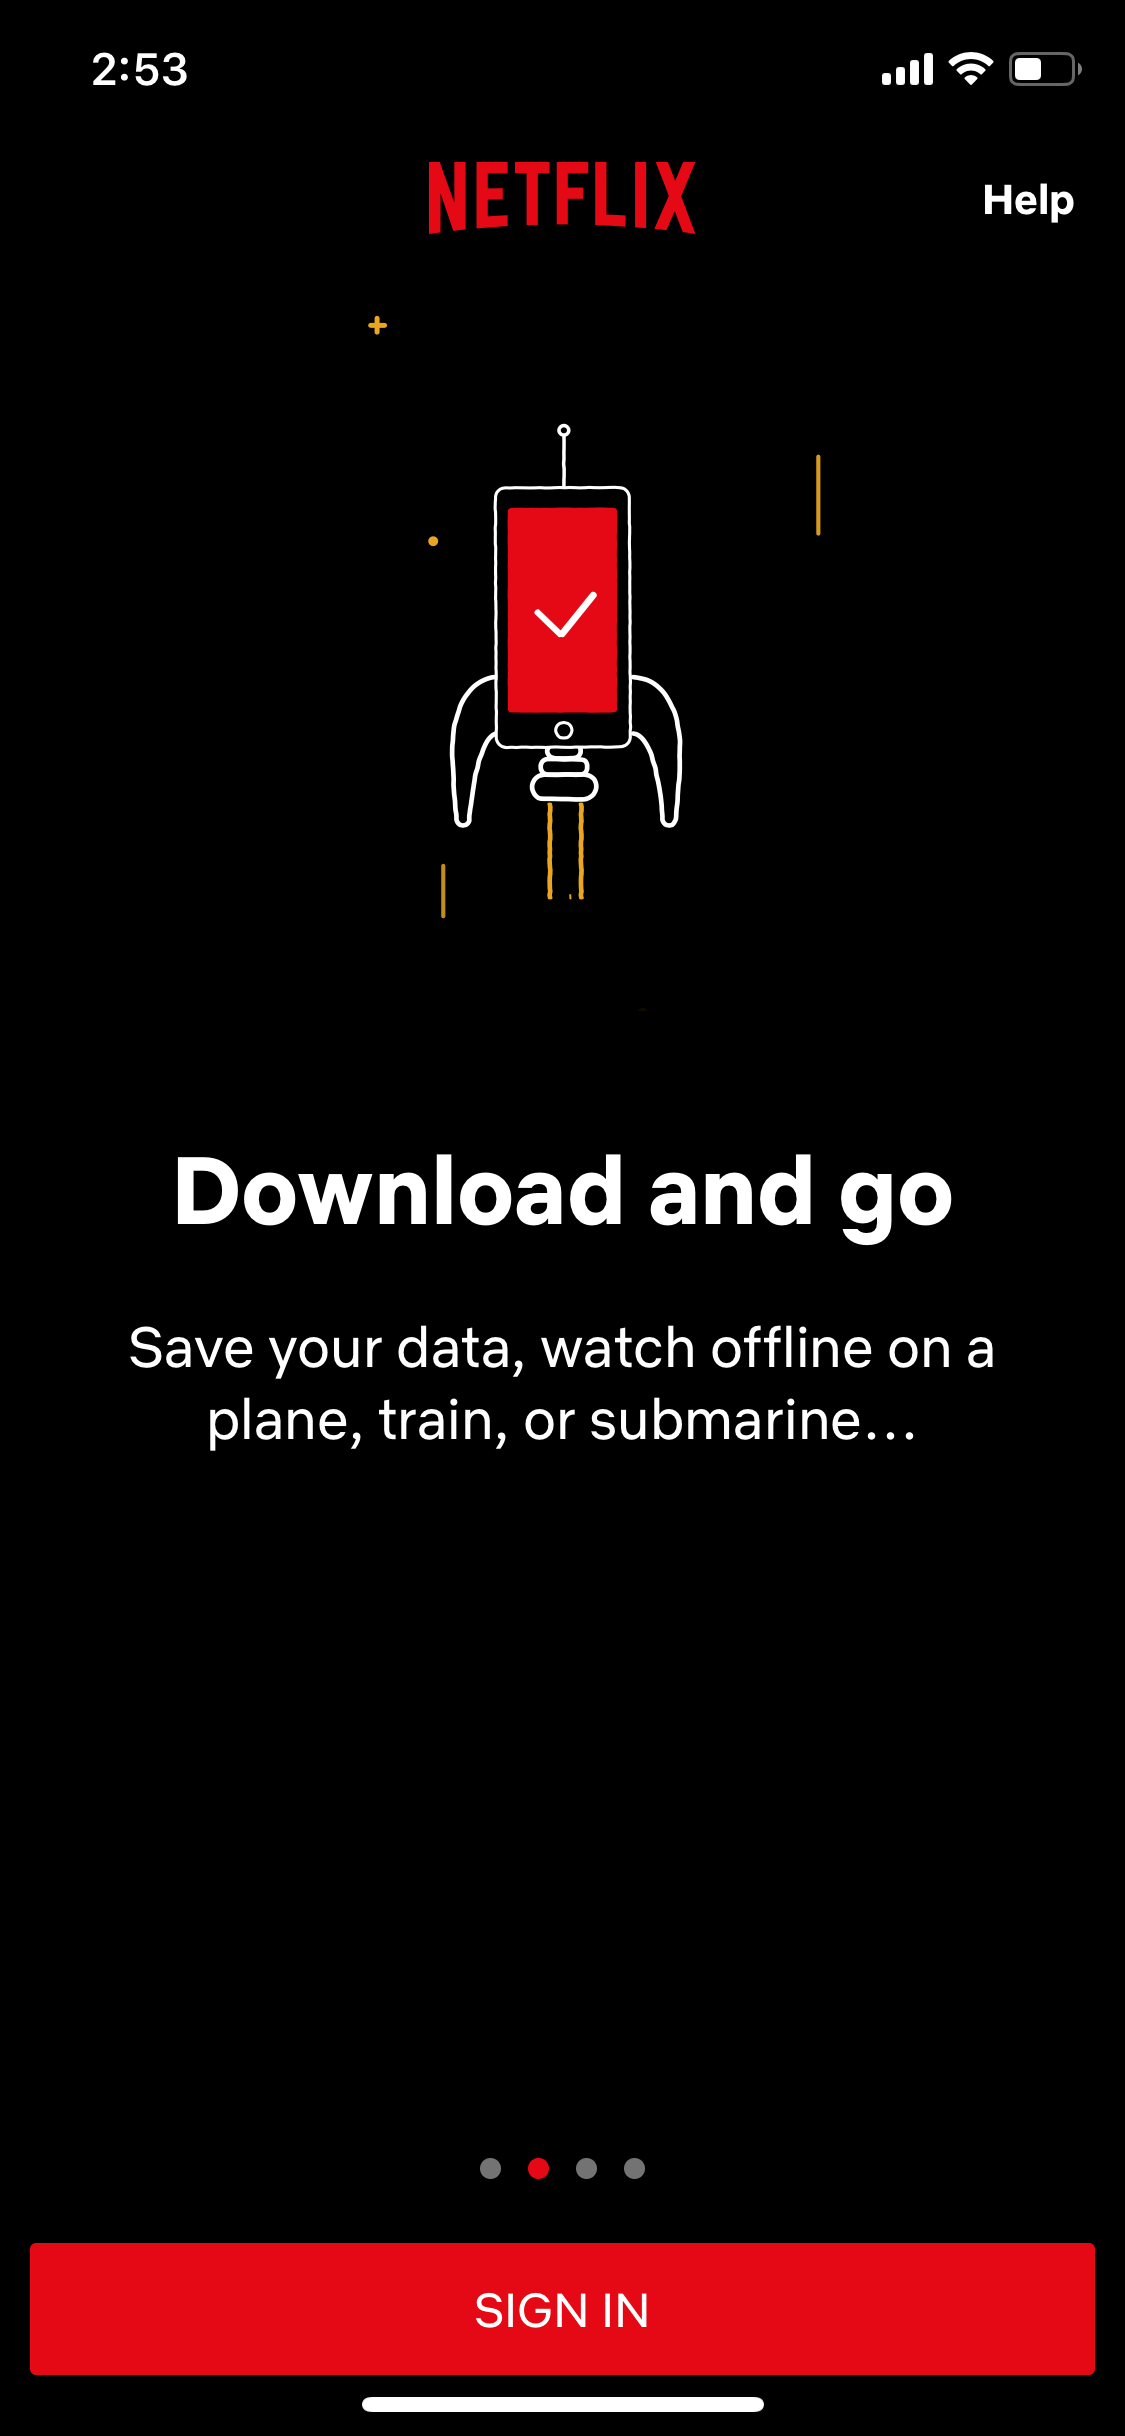Buttons: (19, 2223, 1109, 2382), (943, 141, 1105, 241)
Page Controls: (440, 2110, 691, 2214)
